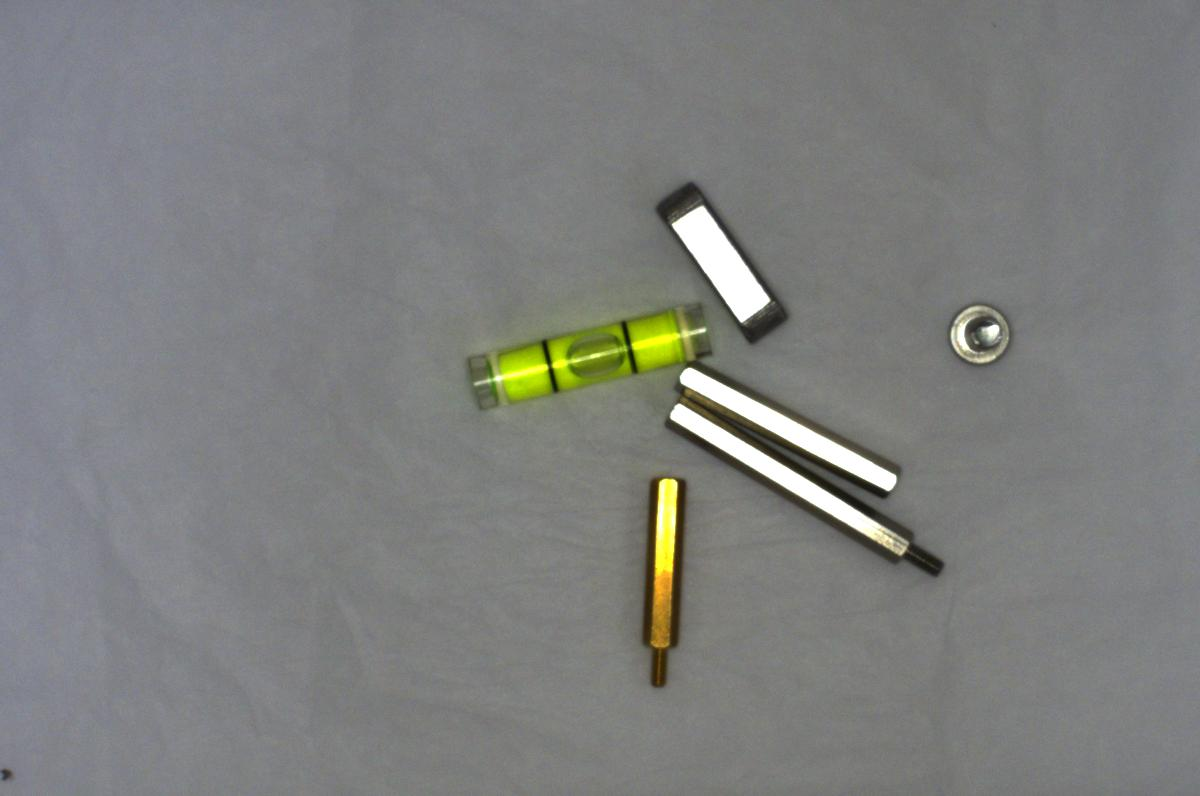Double hexagonal column: (676, 362, 908, 494)
Hexagon pillar: (628, 468, 693, 689)
Hexagonal steel column: (667, 401, 944, 585)
Horizontal bubble: (452, 309, 721, 412)
Keybar: (653, 181, 785, 339)
Round head screw: (930, 287, 1029, 380)
